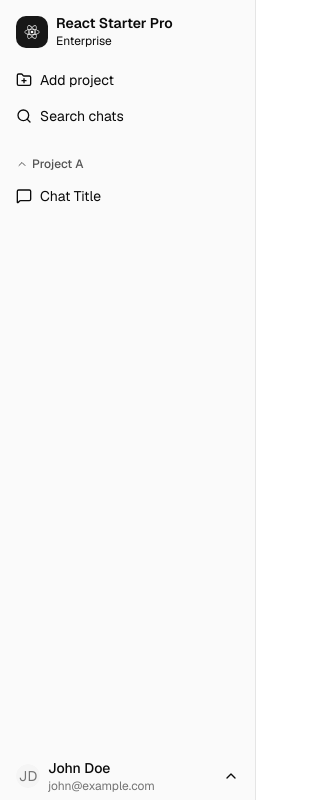
it: AppSidebar › cancels chat edit via Escape key
Check: the text "Chat Title" is shown, box x1=40 y1=186 x2=101 y2=206
Double-click the button "Chat Title": {"x": 128, "y": 196} x1=8 y1=180 x2=247 y2=212
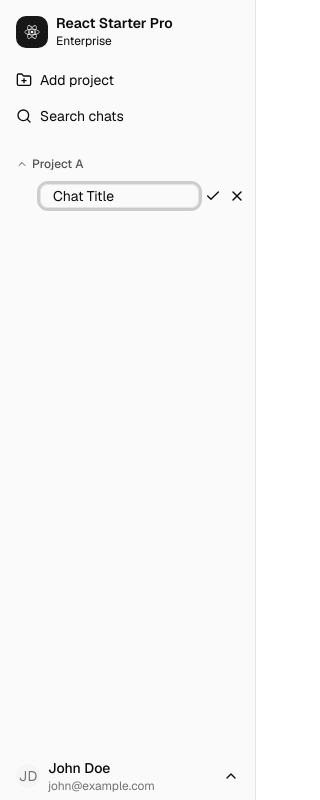
Press Escape in the field showing "Chat Title", box x1=40 y1=184 x2=199 y2=208
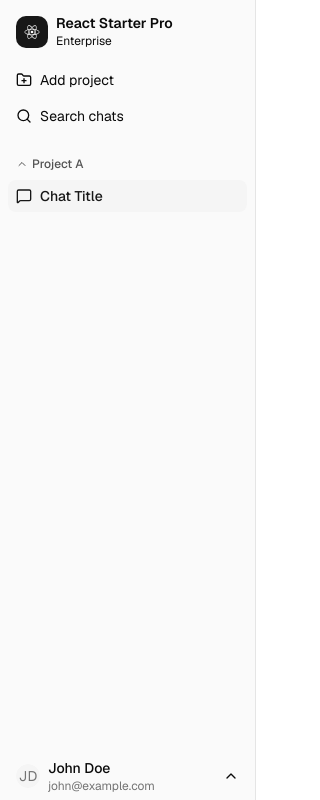
Check: the field is gone
